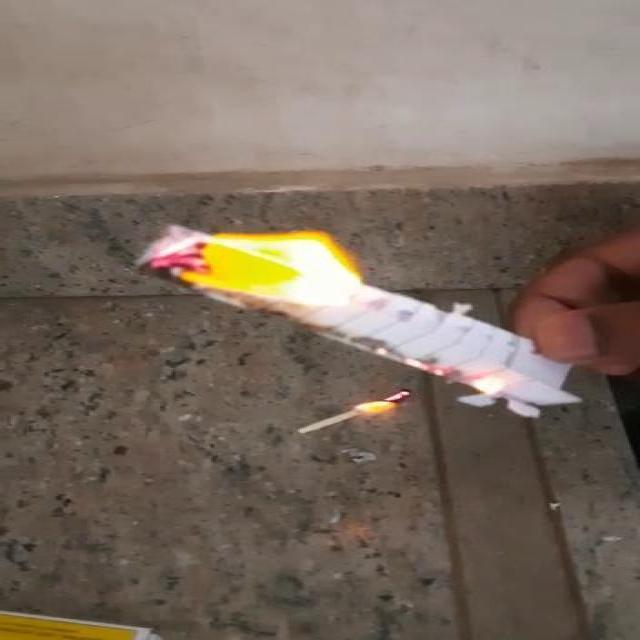Fire: (162, 216, 358, 322), (352, 395, 410, 427)
